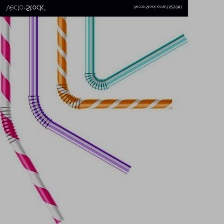drinking_straw: (24, 15, 135, 177), (0, 14, 66, 224), (51, 15, 177, 113), (81, 15, 191, 93)
